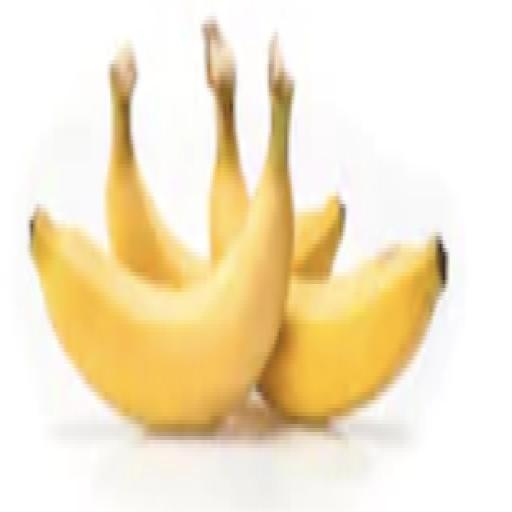banana: (32, 44, 293, 431), (260, 236, 447, 419), (106, 44, 210, 287), (204, 20, 249, 263)
